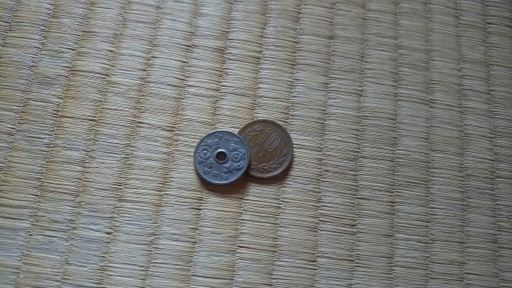10yen: (237, 121, 292, 179)
50yen: (193, 130, 250, 186)
